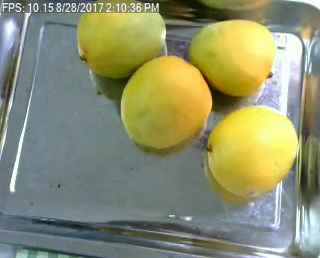Mango: (120, 57, 209, 146), (206, 104, 294, 192), (76, 1, 165, 76), (189, 20, 275, 94)
